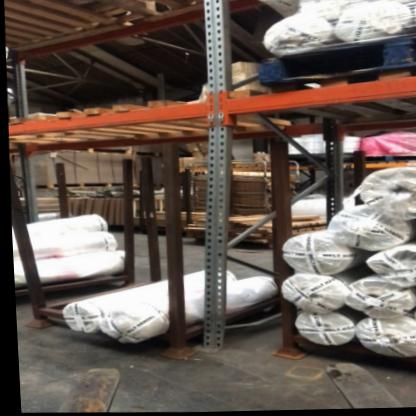vertical_damage: (188, 316, 228, 356)
